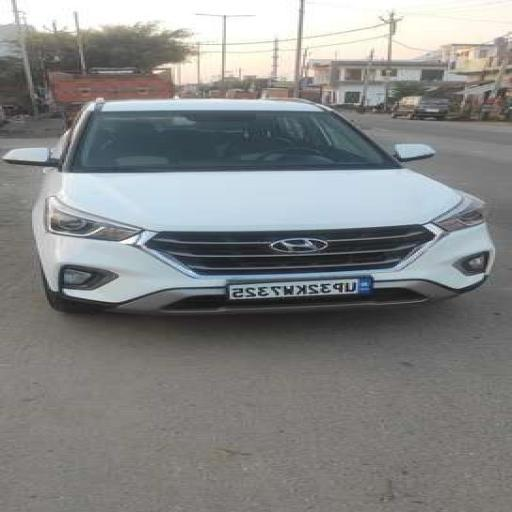License: (216, 272, 379, 303)
